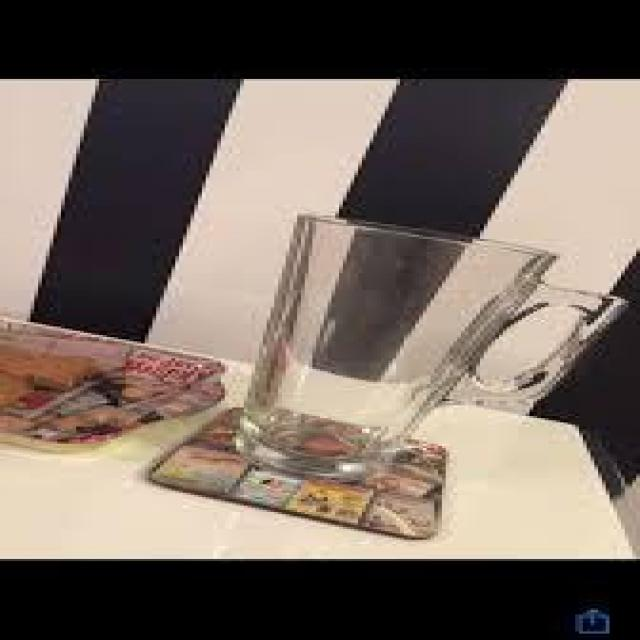non-organic waste: (232, 211, 625, 480)
